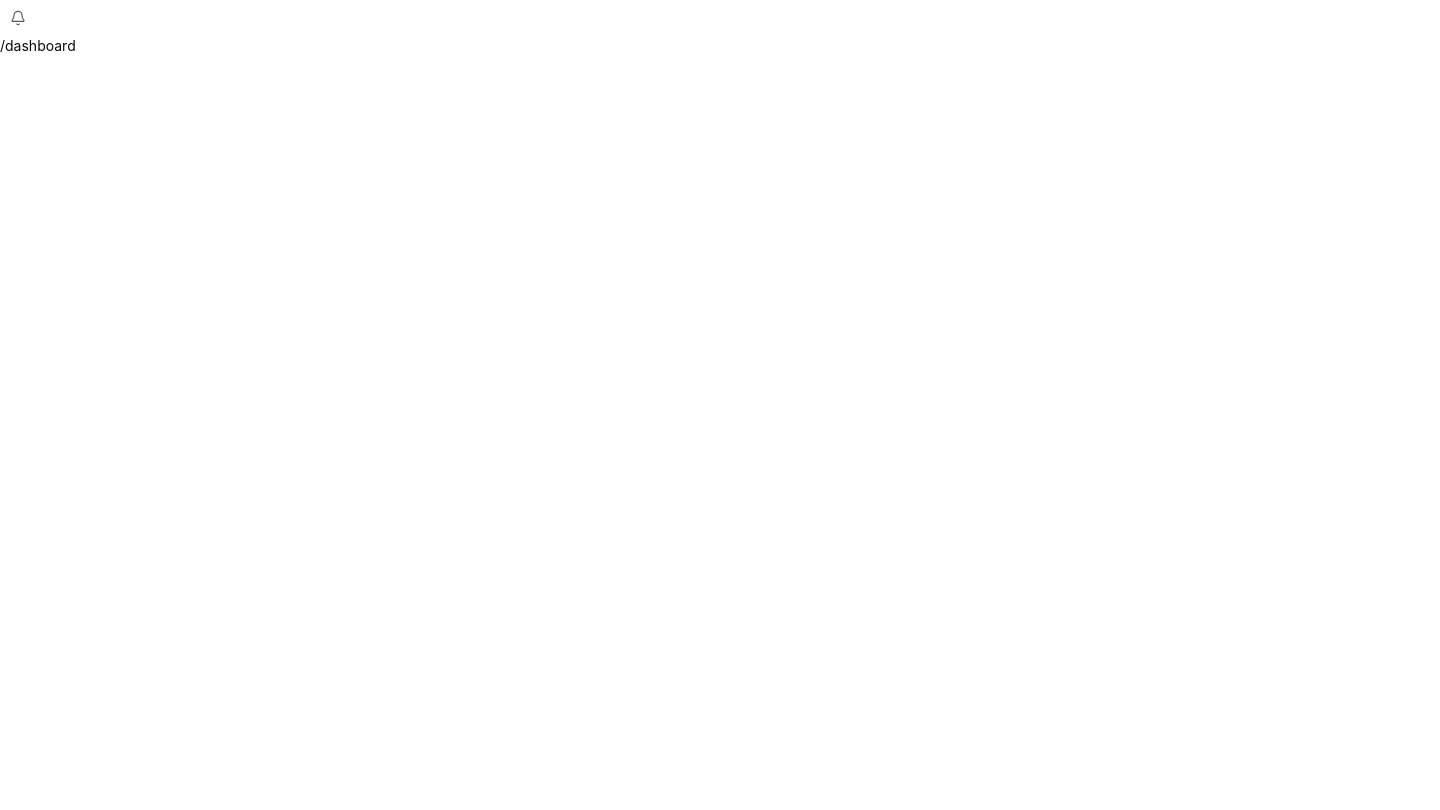
Test: 通知面板 › 本地存的是静音时，提示音开关为关
The image size is (1440, 810).
Click the button named "通知": (18, 18) [0,0,36,36]
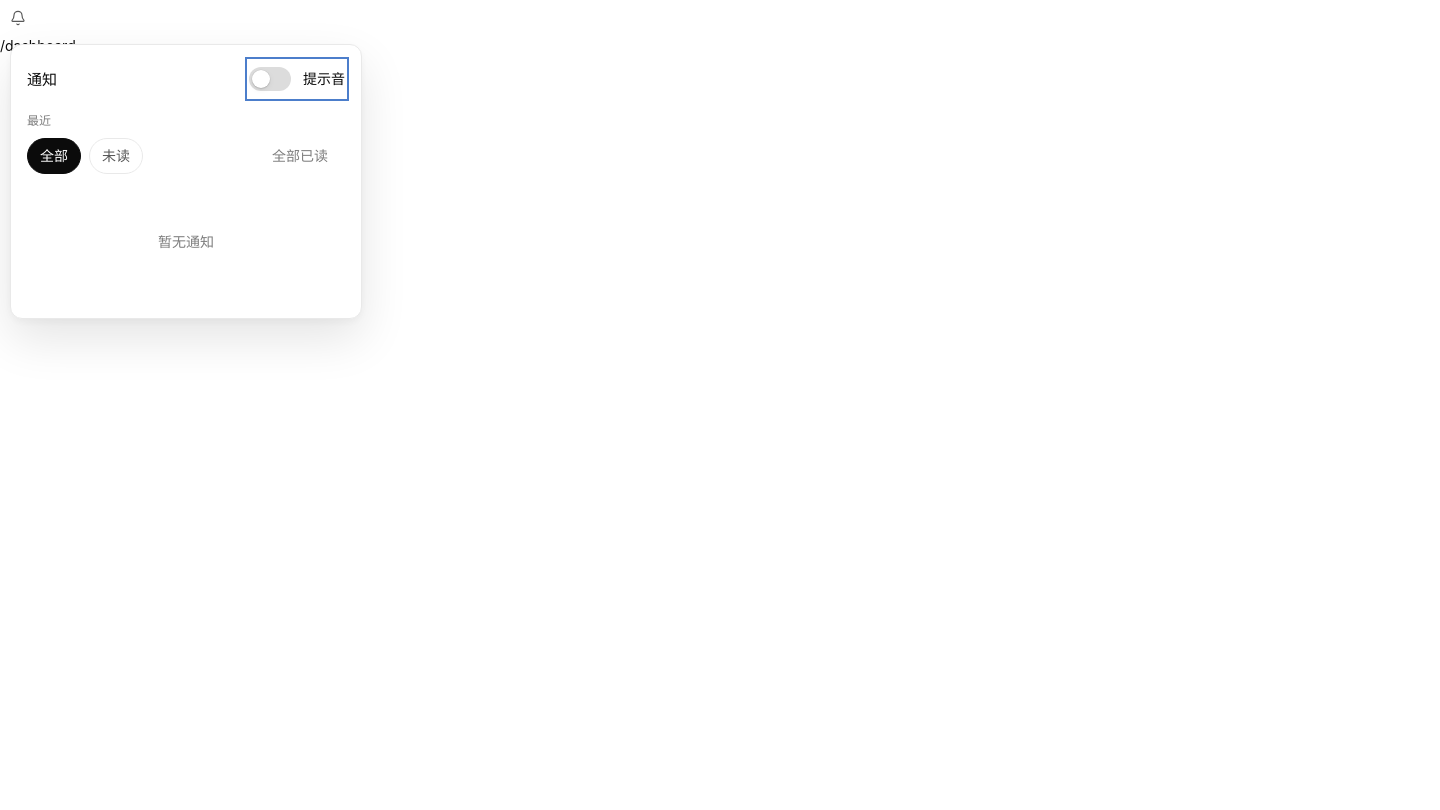
Result: the switch labelled "提示音" is not checked at [249,61,345,97]
